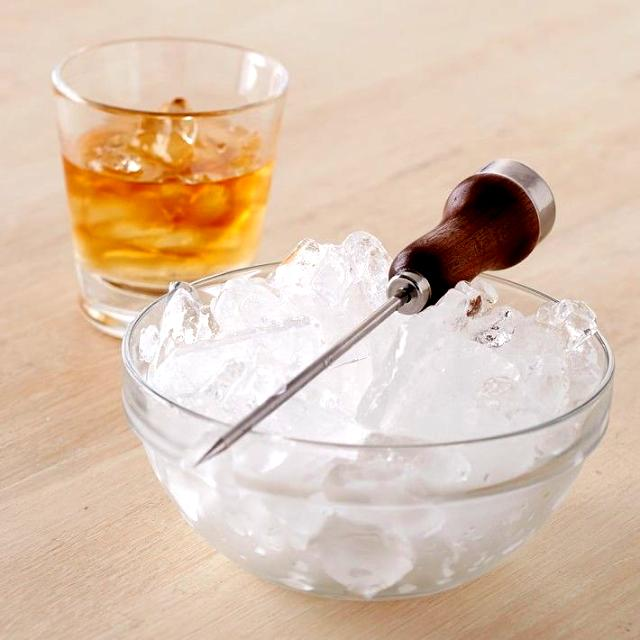ice pick: (193, 160, 554, 466)
